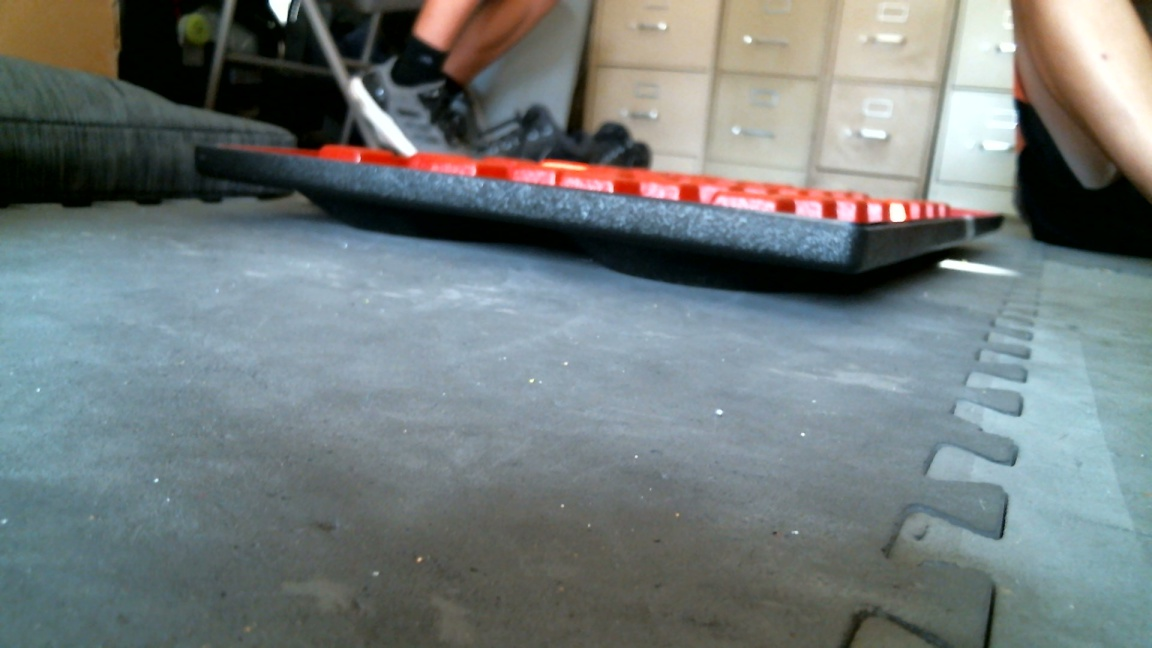red_foundation: (186, 137, 1013, 314)
